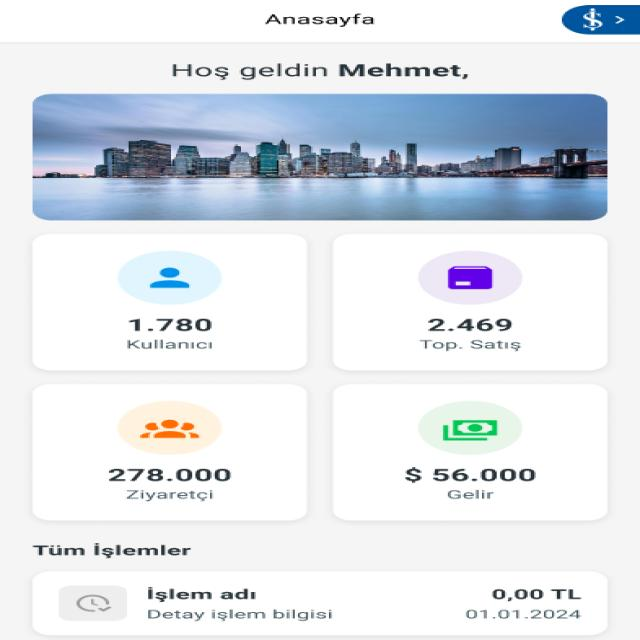QLabel: (163, 61, 329, 82), (149, 608, 336, 621), (29, 543, 191, 558), (337, 63, 471, 81), (406, 467, 536, 482), (259, 11, 377, 27), (144, 586, 256, 601), (108, 468, 231, 481), (417, 338, 520, 352), (122, 488, 217, 502), (465, 609, 580, 620), (488, 588, 582, 601), (426, 318, 513, 332), (128, 318, 214, 331), (124, 338, 217, 350), (444, 488, 494, 500)
VAppBar: (0, 0, 640, 44)
VCard: (32, 570, 606, 638), (330, 232, 609, 370), (332, 383, 608, 520), (31, 386, 305, 522), (32, 234, 305, 369)
VImg: (34, 93, 609, 222), (418, 250, 522, 306), (116, 250, 222, 304), (119, 401, 219, 454), (421, 402, 521, 454), (57, 585, 126, 621), (561, 4, 640, 34)
